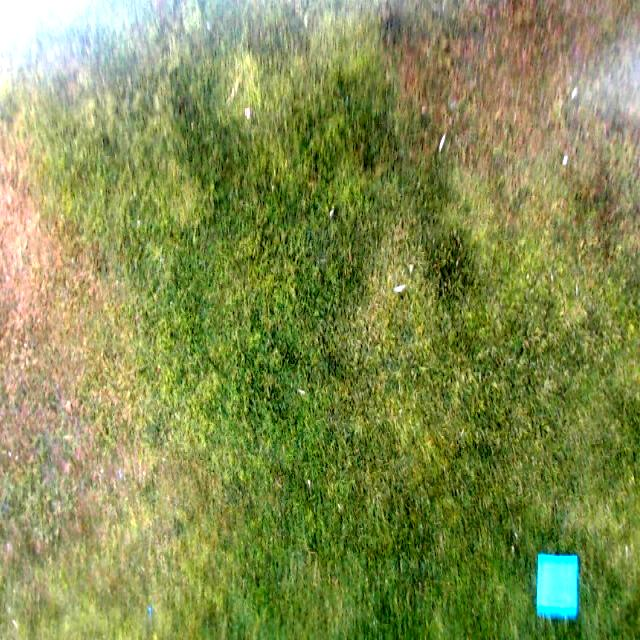blue_square: (536, 554, 578, 612)
